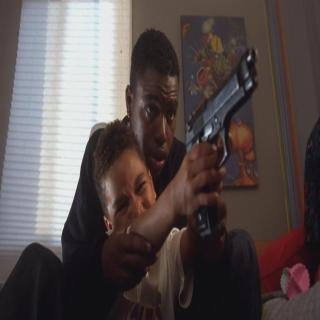gun: (181, 47, 262, 249)
